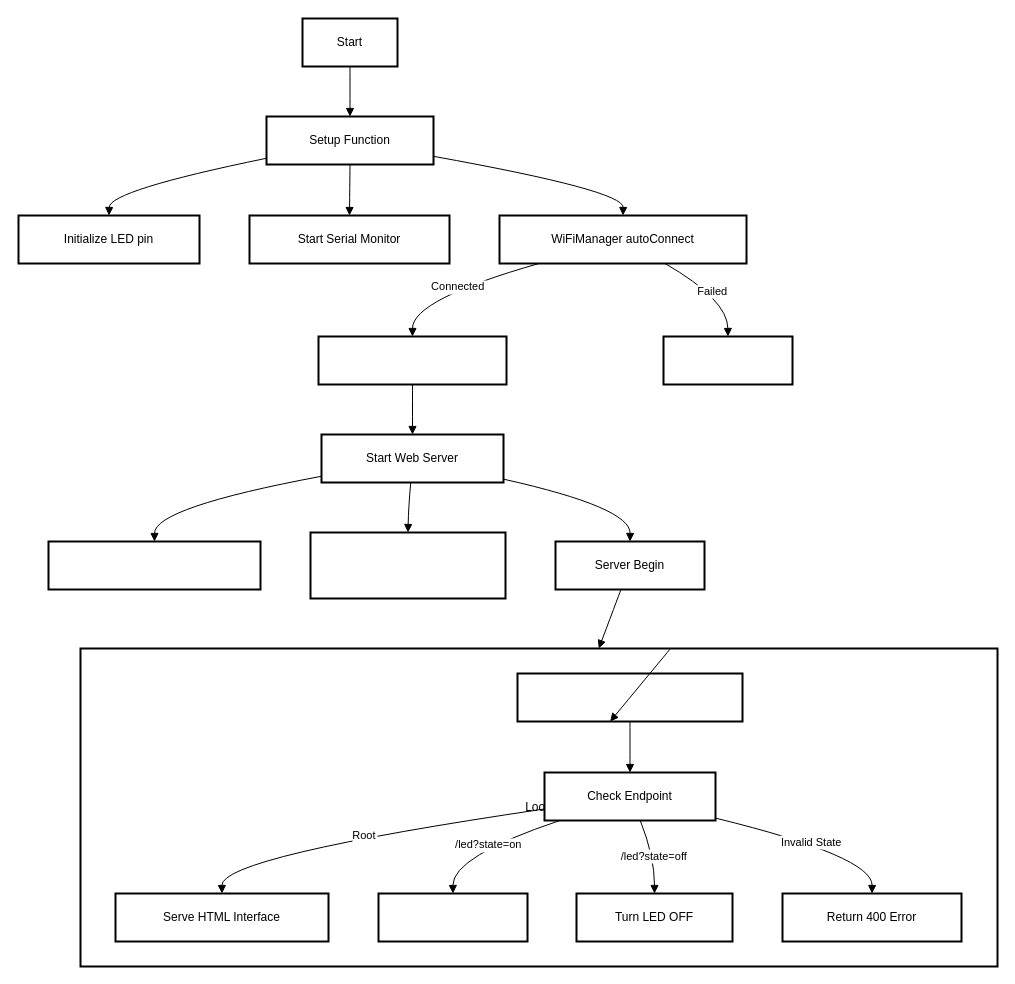
Image size: 1015x984. Some labels were removed from this diagram. The box of each missing label's shape, as (x1, y1, x2, y2) in pixels:
Define LED Control Endpoint: (309, 531, 506, 599)
Define Root Endpoint: (47, 540, 261, 590)
Display IP Address: (317, 335, 507, 385)
Handle Client Requests: (516, 672, 743, 722)
Reset ESP: (662, 335, 793, 385)
Turn LED ON: (377, 892, 528, 942)
